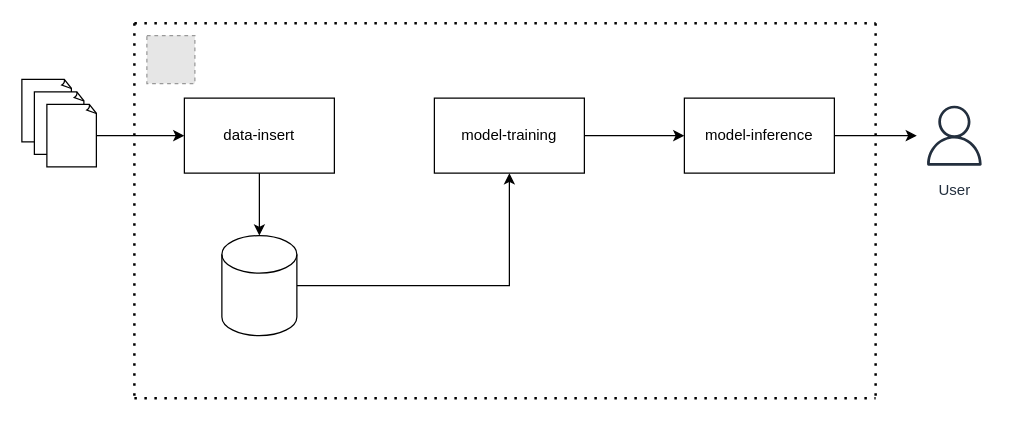
Some shapes in this 1014 by 421 pixel diagram are drawn without their labels. Grey dashed boxes stand in for pictures. The shapes that lost their labels are listed below. From the top down, each one's centre as x and y in pixels, then its label:
At (71,135): ".csv".
At (259,285): "mysql".
